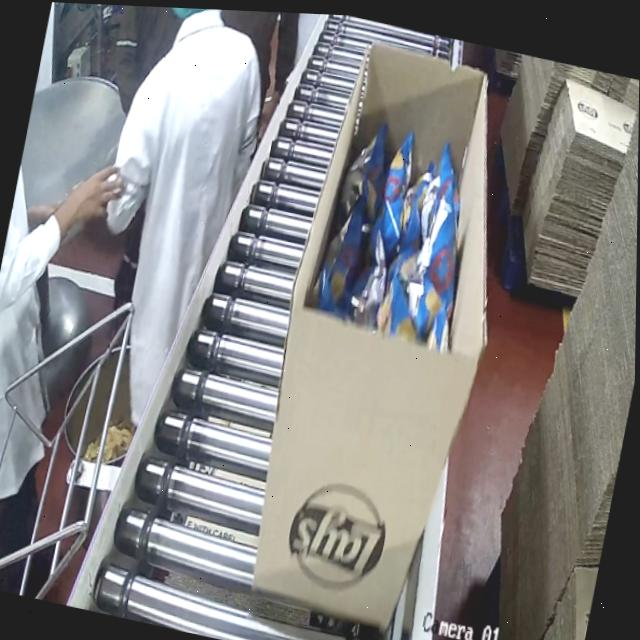PAPRIKA: (313, 113, 487, 346)
